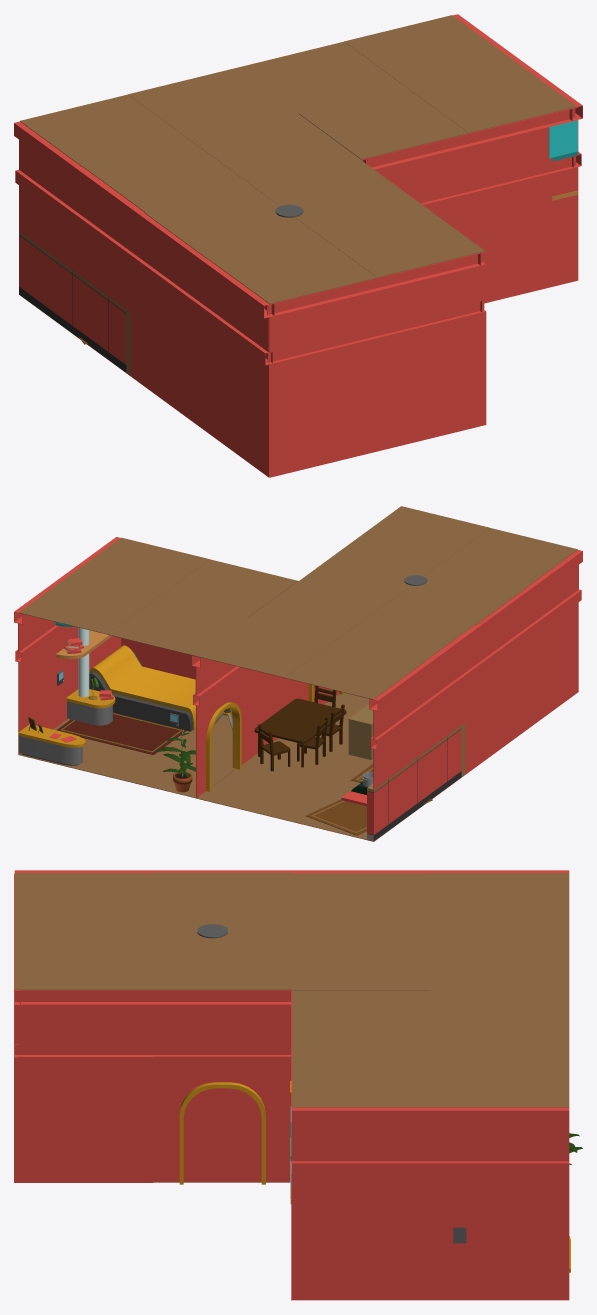
The model's file is Jonas_Apt_Interior.fbx.
The picture shows the model from 3 angles, top to bottom: view 1: azimuth 30°, elevation 25°; view 2: azimuth 150°, elevation 25°; view 3: azimuth 270°, elevation 25°; orthographic projection. The views are drawn at different scales.
Parts seen in each view (by area): view 1: BrickWallLight_Window_V1_1.263, BrickWallLight_Window_V1_1.262, Metal_Panel_V1_4.012, BrickWallLight_Window_V1_1.267, BrickWallLight_Window_V1_1.266, Metal_Panel_V1_4.100, Metal_Panel_V1_4.076, Metal_Panel_V1_4.097, Metal_Panel_V1_4.047, Metal_Panel_V1_4.106, Metal_Panel_V1_4.048, Metal_Panel_V1_4.107 (+20 smaller); view 2: Bed, BrickWallLight_Window_V1_1.266, BrickWallLight_Window_V1_1.267, Metal_Panel_V1_4.106, Metal_Panel_V1_4.102, Metal_Panel_V1_4.048, Metal_Panel_V1_4.075, Metal_Panel_V1_4.107, Metal_Panel_V1_4.104, Metal_Panel_V1_4.076, Metal_Panel_V1_4.100, Metal_Panel_V1_4.101 (+39 smaller); view 3: Metal_Panel_V1_4.078, Metal_Panel_V1_4.003, Metal_Panel_V1_4.002, Metal_Panel_V1_4.087, Metal_Panel_V1_4.116, Metal_Panel_V1_4.115, Metal_Panel_V1_4.085, Metal_Panel_V1_4.084, Metal_Panel_V1_4.048, Metal_Panel_V1_4.100, Metal_Panel_V1_4.076, Metal_Panel_V1_4.107 (+10 smaller).
Boxes of the visible parts, x1,y1,x2,y2 form: BrickWallLight_Window_V1_1.263: (269,338,377,477); BrickWallLight_Window_V1_1.262: (378,312,486,451); Metal_Panel_V1_4.012: (470,167,578,303); BrickWallLight_Window_V1_1.267: (206,323,269,477); BrickWallLight_Window_V1_1.266: (144,277,206,431); Metal_Panel_V1_4.100: (315,205,485,277); Metal_Panel_V1_4.076: (406,61,576,132); Metal_Panel_V1_4.097: (207,232,377,303); Metal_Panel_V1_4.047: (299,87,469,159); Metal_Panel_V1_4.106: (20,94,189,166); Metal_Panel_V1_4.048: (344,15,514,86); Metal_Panel_V1_4.107: (190,113,360,185); Bed: (89,645,195,731); BrickWallLight_Window_V1_1.266: (476,640,527,766); BrickWallLight_Window_V1_1.267: (527,602,578,728); Metal_Panel_V1_4.106: (285,640,424,699); Metal_Panel_V1_4.102: (196,618,335,677); Metal_Panel_V1_4.048: (19,575,158,634); Metal_Panel_V1_4.075: (107,597,246,656); Metal_Panel_V1_4.107: (247,581,386,639); Metal_Panel_V1_4.104: (196,761,335,819); Metal_Panel_V1_4.076: (70,537,209,596); Metal_Panel_V1_4.100: (350,506,489,564); Metal_Panel_V1_4.101: (336,602,474,661); Metal_Panel_V1_4.078: (14,1057,153,1182); Metal_Panel_V1_4.003: (292,1176,430,1300); Metal_Panel_V1_4.002: (430,1176,569,1300); Metal_Panel_V1_4.087: (153,1056,291,1184); Metal_Panel_V1_4.116: (430,1107,569,1176); Metal_Panel_V1_4.115: (292,1107,430,1176); Metal_Panel_V1_4.085: (14,990,153,1057); Metal_Panel_V1_4.084: (153,990,291,1057); Metal_Panel_V1_4.048: (430,1048,569,1107); Metal_Panel_V1_4.100: (14,931,153,990); Metal_Panel_V1_4.076: (292,1048,430,1107); Metal_Panel_V1_4.107: (292,931,430,990).
Size of the model in its own units: 821 by 309 by 821.
Materials: 49 (25 with a texture image).
